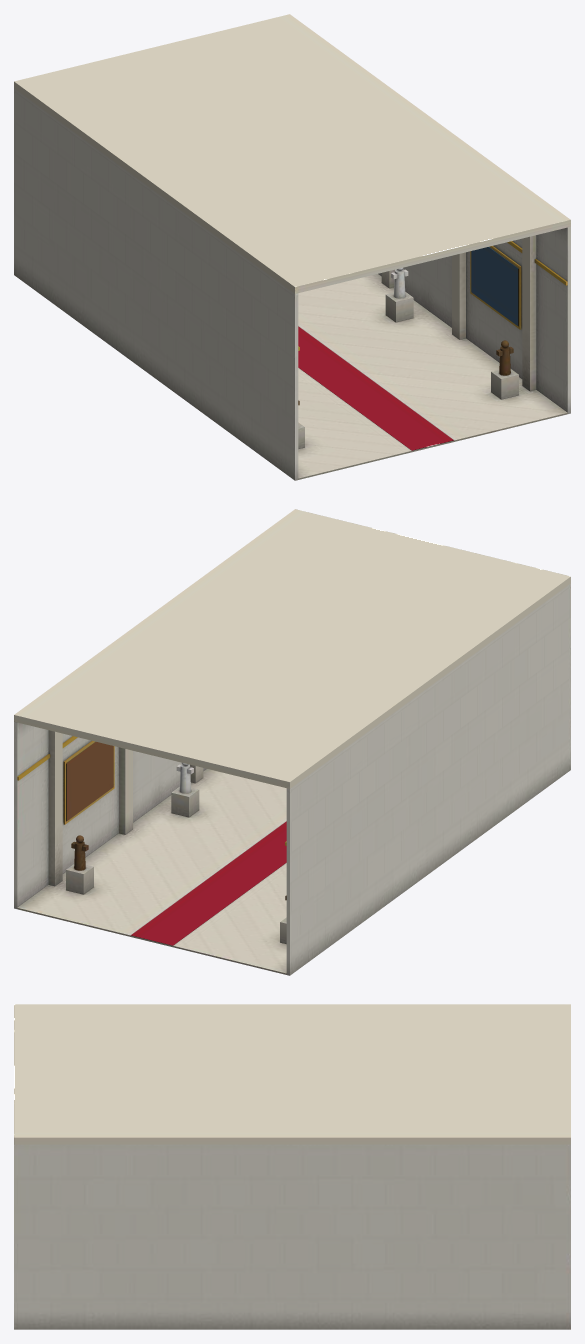
Rendered from capitolio_pasillo.glb.
3 views of the same model, one above another, from view 1: azimuth 30°, elevation 25°; view 2: azimuth 150°, elevation 25°; view 3: azimuth 270°, elevation 25° (orthographic).
Parts seen in each view (by area): view 1: capitolio_pasillo; view 2: capitolio_pasillo; view 3: capitolio_pasillo.
Boxes of the visible parts, box(x1,y1,x2,y2) form: capitolio_pasillo: box(14, 14, 570, 480); capitolio_pasillo: box(14, 509, 570, 975); capitolio_pasillo: box(14, 1004, 570, 1329).
Bounding box in the file's own units: 17 × 11.4 × 30.
Materials: 1 (1 with a texture image).
